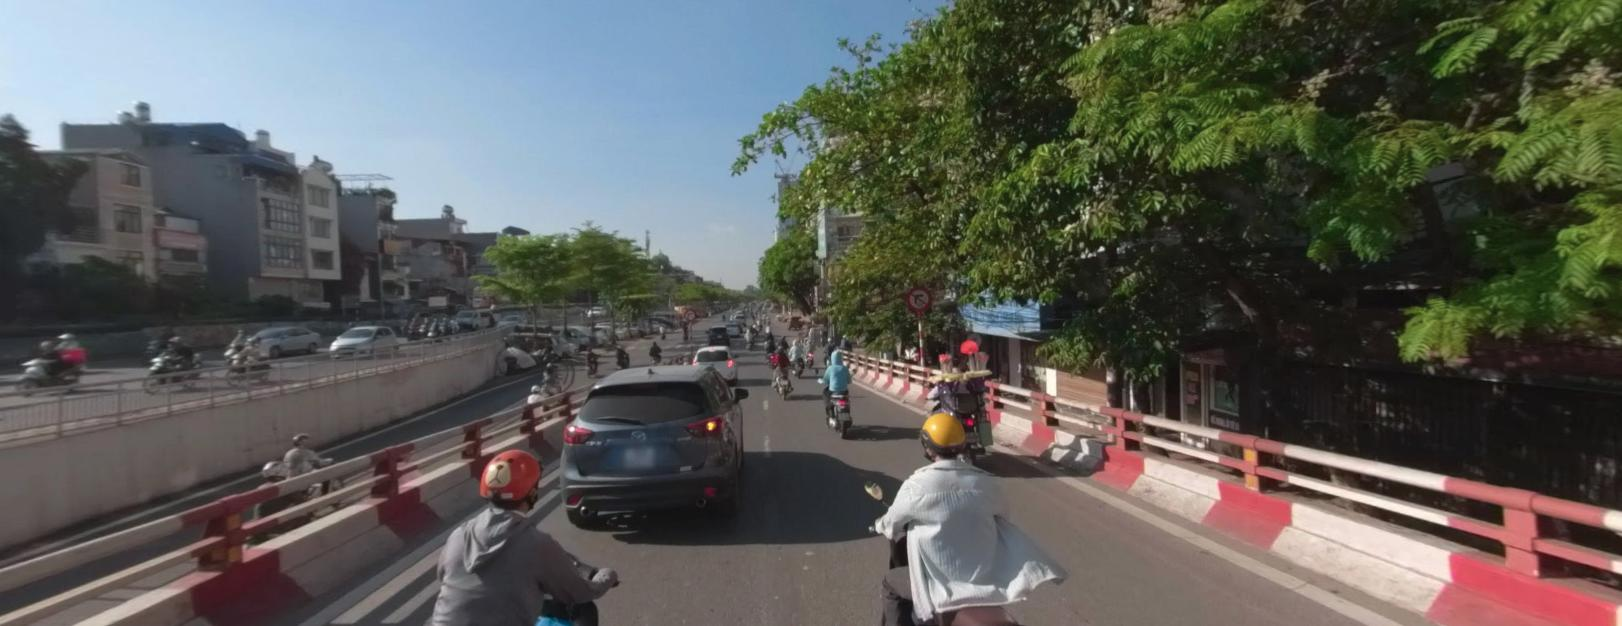Cam re: (904, 284, 932, 309), (684, 308, 696, 319)
